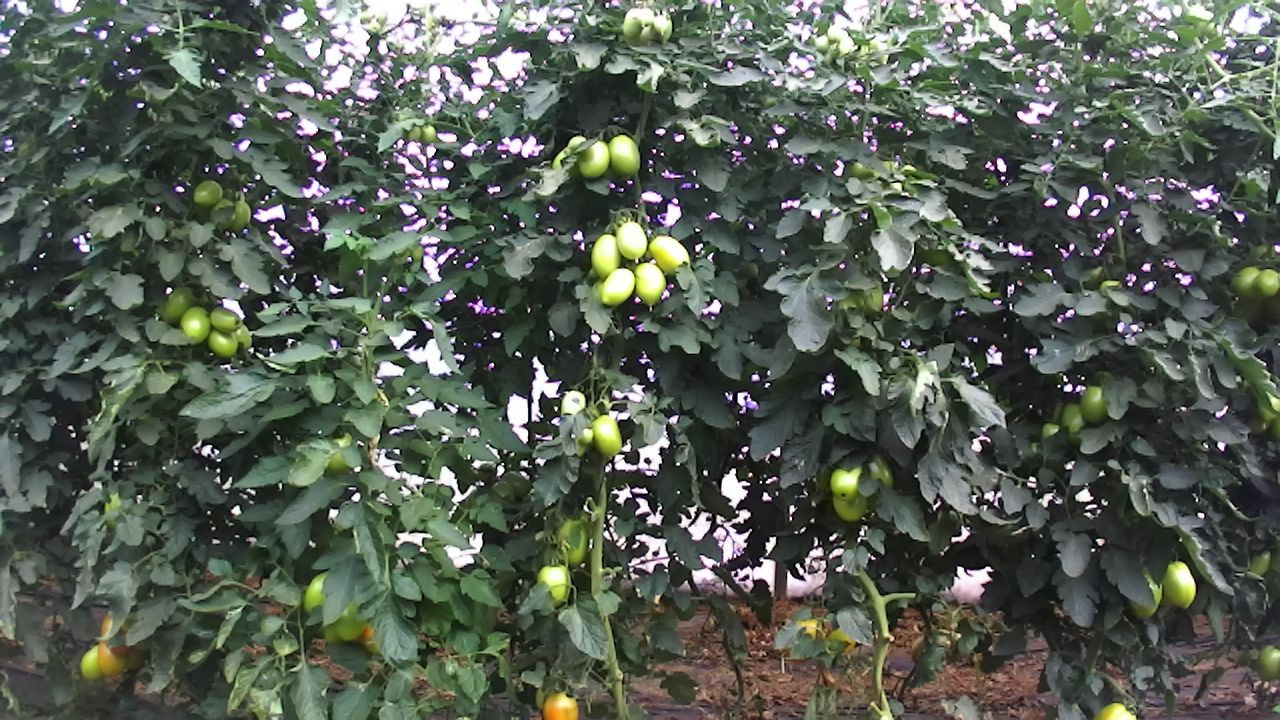tomato: (1159, 555, 1198, 612), (646, 234, 691, 279), (604, 131, 642, 179), (631, 260, 668, 309), (588, 410, 624, 458), (556, 516, 591, 565), (828, 459, 865, 504), (576, 135, 612, 181), (599, 265, 636, 309), (537, 563, 573, 608), (589, 232, 622, 281), (175, 304, 212, 347), (334, 599, 369, 643), (160, 284, 196, 325), (1057, 399, 1087, 448), (615, 219, 648, 262), (830, 490, 869, 524), (1079, 383, 1109, 427), (539, 689, 581, 720), (96, 641, 128, 680), (205, 327, 240, 360), (1229, 264, 1262, 297), (208, 304, 243, 335), (190, 178, 224, 209), (1254, 642, 1280, 681), (1251, 266, 1280, 298), (79, 644, 104, 679), (229, 198, 253, 234)
